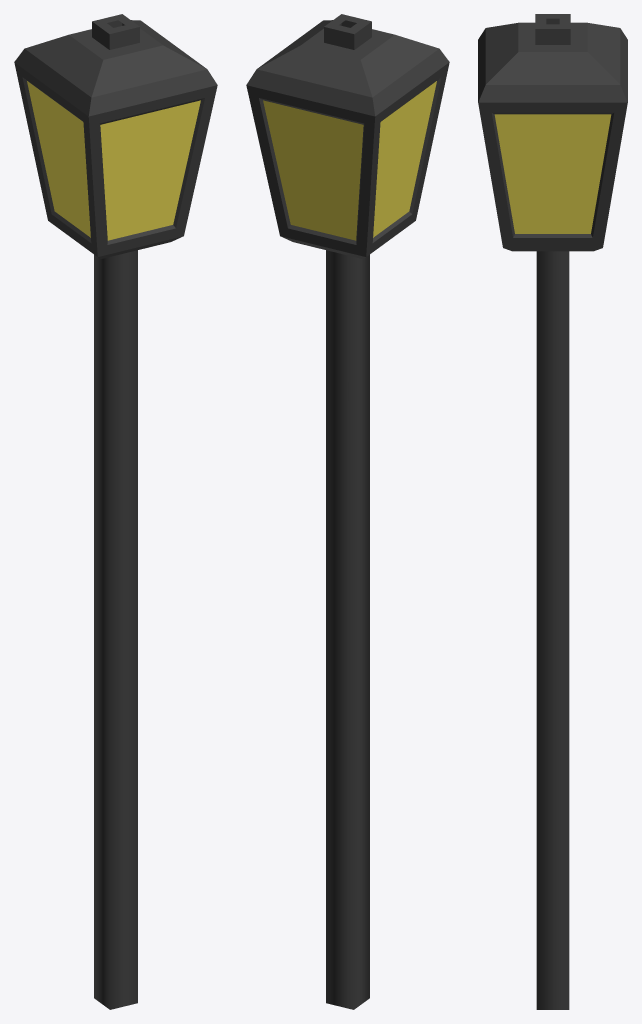
Rendered from Streetlamp.fbx.
3 renders of one model, left to right at view 1: azimuth 30°, elevation 25°; view 2: azimuth 150°, elevation 25°; view 3: azimuth 270°, elevation 25°, orthographic.
Visible parts, largest first — view 1: Street lamp; view 2: Street lamp; view 3: Street lamp.
Boxes of the visible parts, x1,y1,x2,y2 form: Street lamp: [14, 14, 217, 1009]; Street lamp: [246, 14, 449, 1009]; Street lamp: [478, 14, 627, 1009].
Bounding box in the file's own units: 65.76 × 476 × 65.76.
